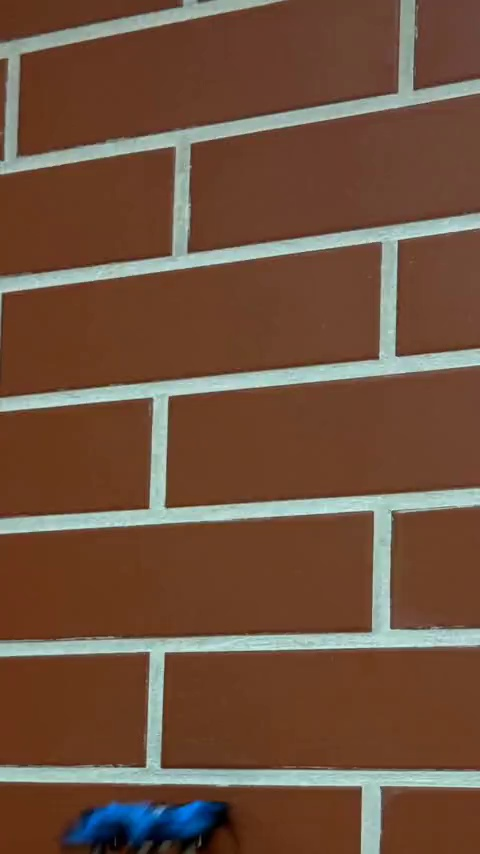drone: (62, 805, 234, 853)
